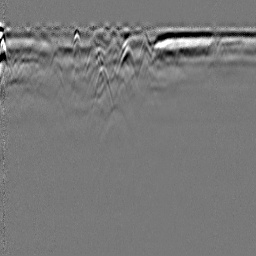cavity: (119, 42, 138, 78)
